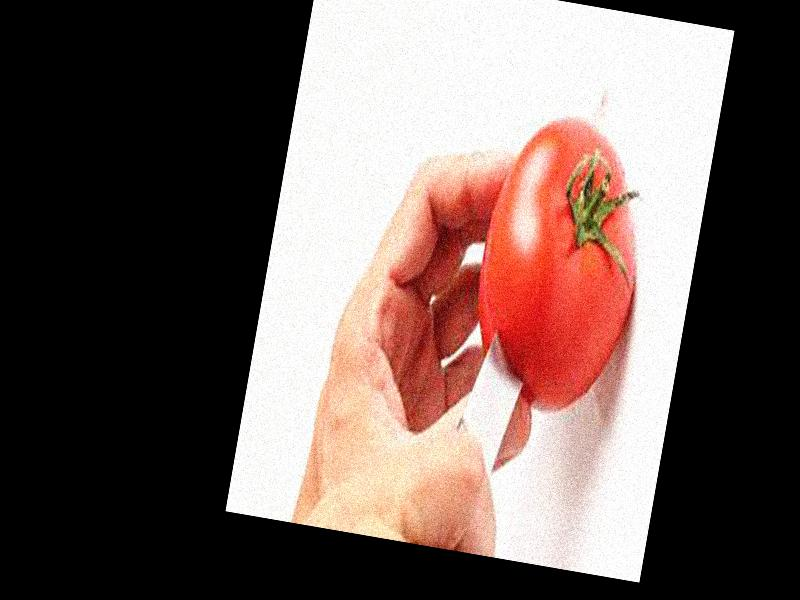Tomato: (458, 112, 658, 421)
